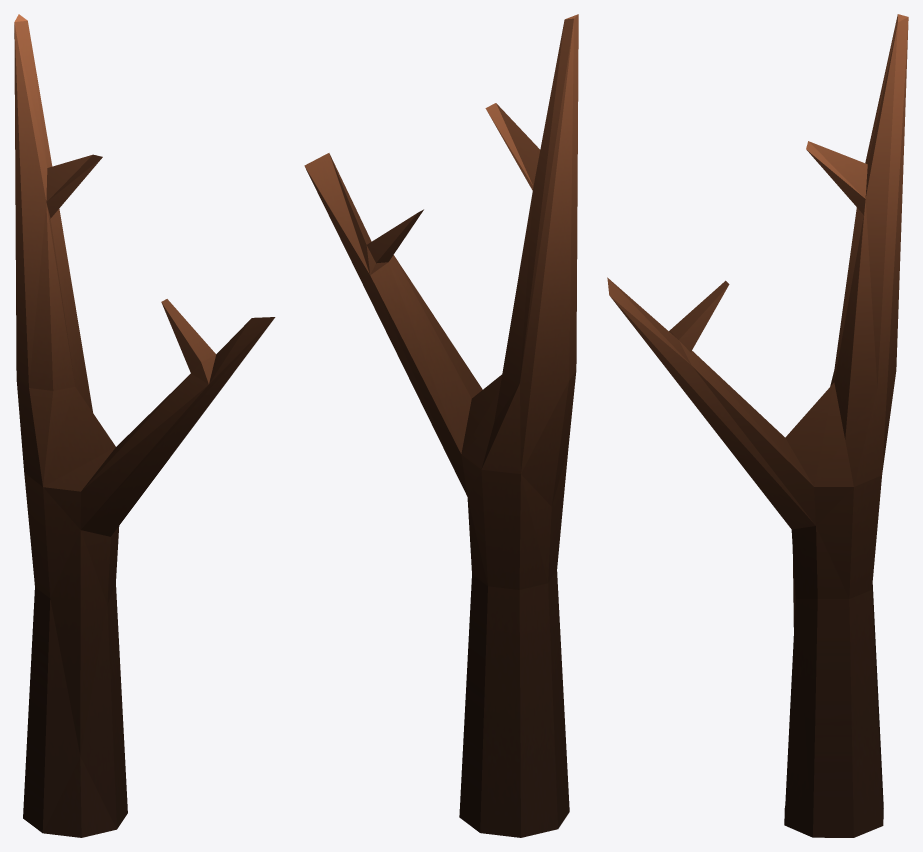
File: Canyon_Plant_003.FBX
3 views of the same model, side by side, from view 1: azimuth 30°, elevation 25°; view 2: azimuth 210°, elevation 25°; view 3: azimuth 270°, elevation 25° (orthographic). The views are drawn at different scales.
Visible parts, largest first — view 1: Canyon_Plant_003; view 2: Canyon_Plant_003; view 3: Canyon_Plant_003.
Boxes of the visible parts, x1,y1,x2,y2 form: Canyon_Plant_003: [14, 14, 275, 837]; Canyon_Plant_003: [304, 14, 578, 837]; Canyon_Plant_003: [607, 14, 908, 837].
Bounding box in the file's own units: 91.07 × 515 × 178.
Materials: 1 (1 with a texture image).
